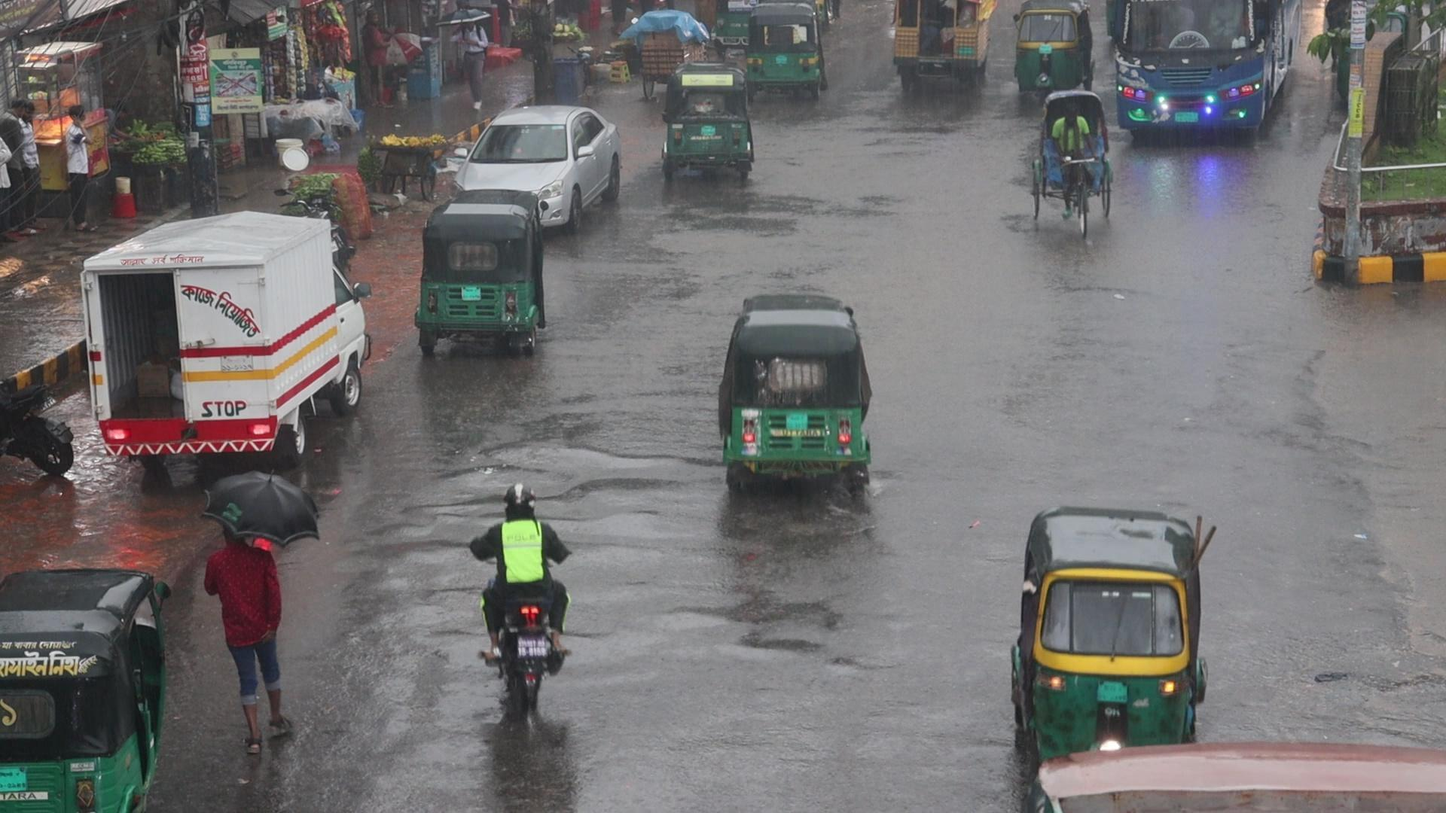Bike: (465, 481, 574, 721)
